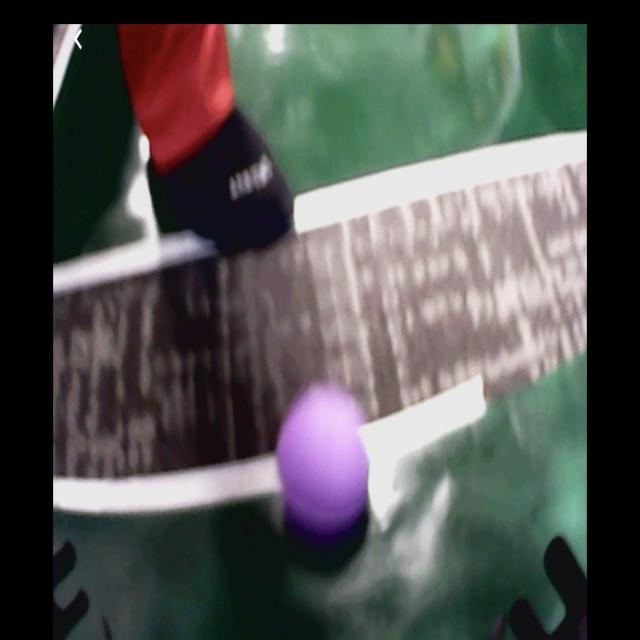ball: (277, 383, 373, 526)
